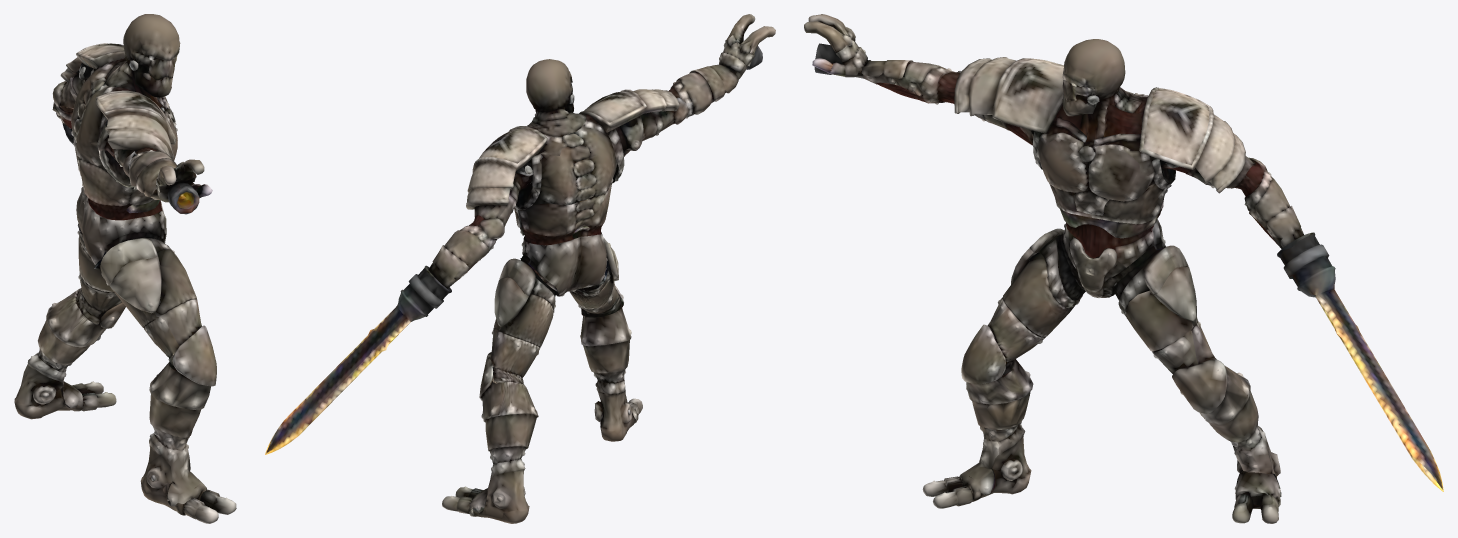
The model's file is MZ4250 - Warforged Fighter Armblade and Cannon_2025.glb.
3 views of the same model, side by side, from view 1: azimuth 30°, elevation 25°; view 2: azimuth 150°, elevation 25°; view 3: azimuth 270°, elevation 25° (orthographic). The views are drawn at different scales.
Parts seen in each view (by area): view 1: Warforged Fighter Armblade and Cannon.001; view 2: Warforged Fighter Armblade and Cannon.001; view 3: Warforged Fighter Armblade and Cannon.001.
Boxes of the visible parts, box(x1,y1,x2,y2) form: Warforged Fighter Armblade and Cannon.001: box(14, 14, 236, 523); Warforged Fighter Armblade and Cannon.001: box(265, 14, 775, 523); Warforged Fighter Armblade and Cannon.001: box(804, 14, 1443, 523).
Size of the model in its own units: 22.62 by 35.55 by 43.96.
1 material, 1 textured.
